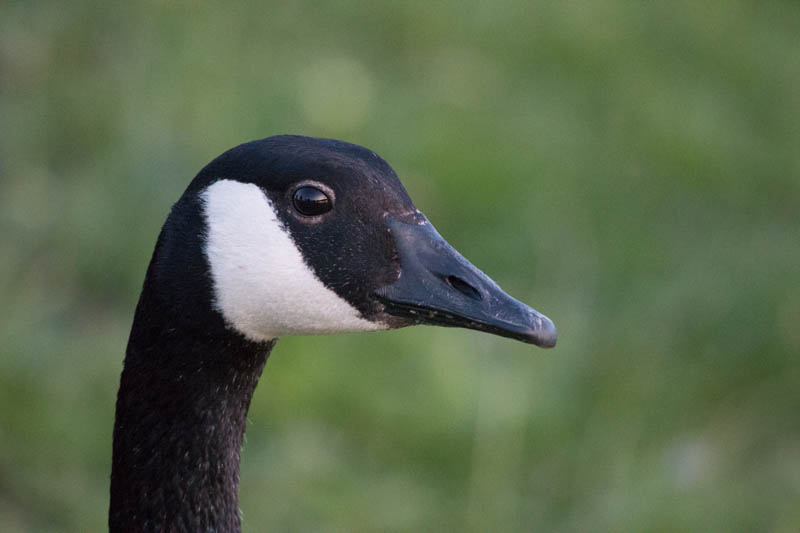goose-head: (137, 135, 559, 349)
